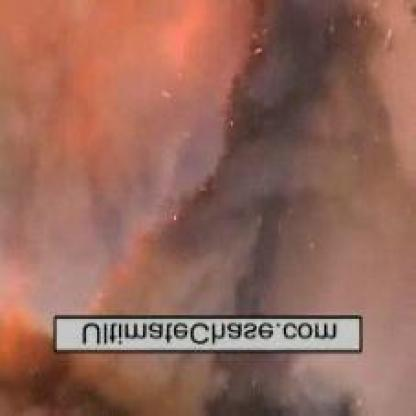smoke: (31, 20, 405, 386)
